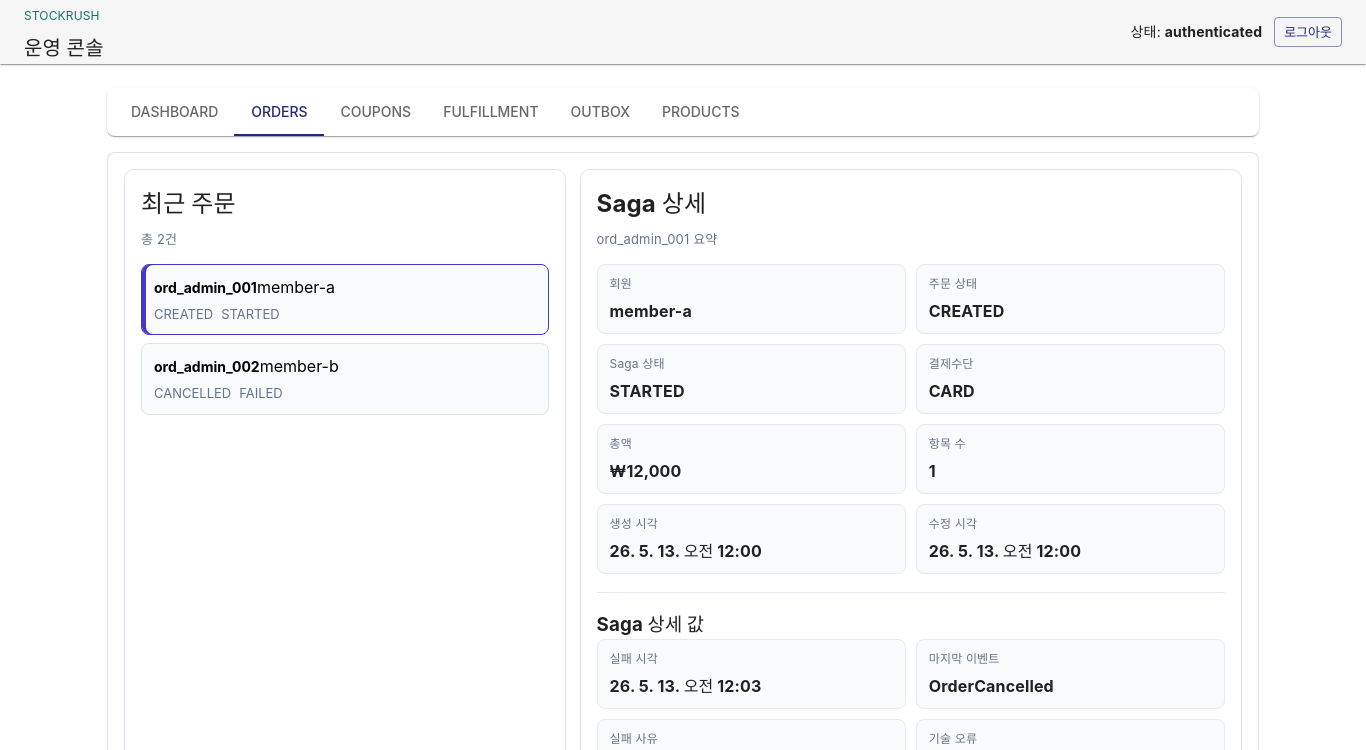
Test: admin app operations › validates product create form for missing code and name
Click the tab "Products". click: (701, 112)
box: [646,88,756,136]
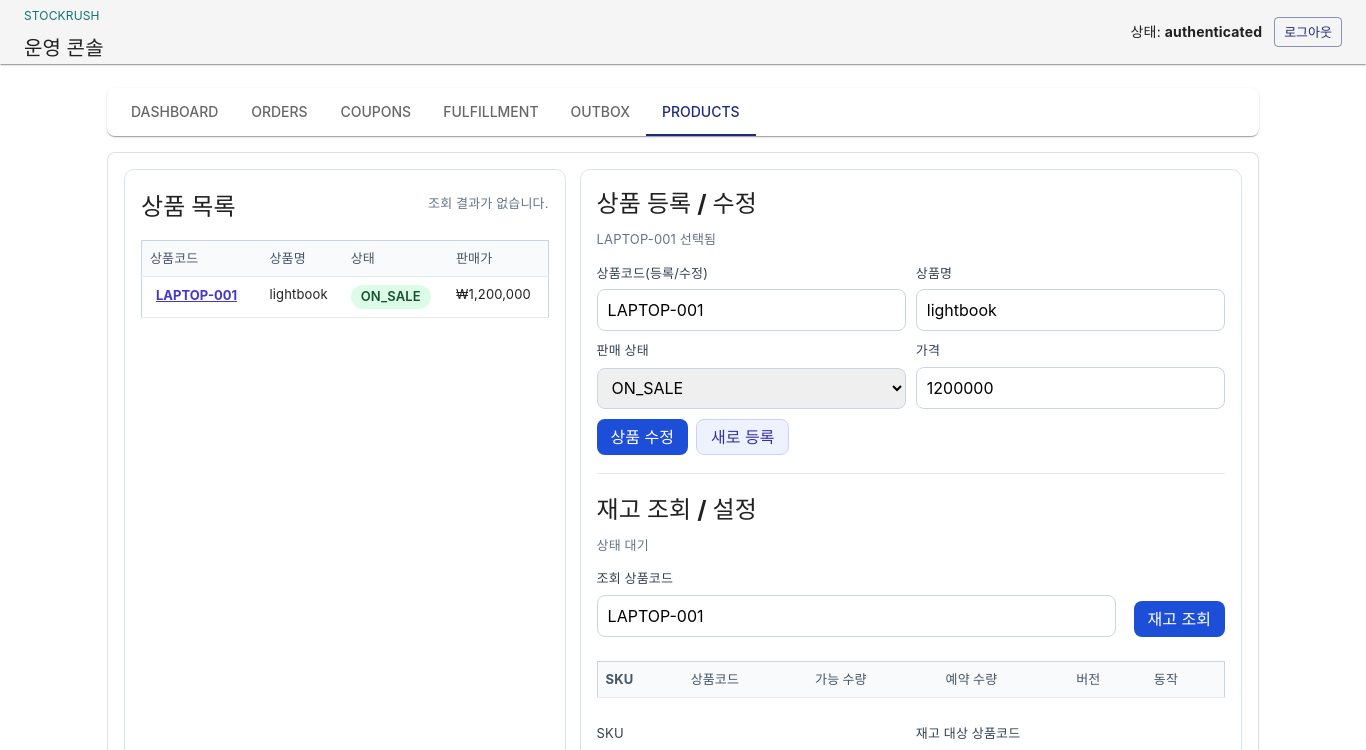
Check: the button "LAPTOP-001" is shown, box [150,285,243,306]
Click the button "새로 등록". click: (743, 436)
box: [696,418,789,454]
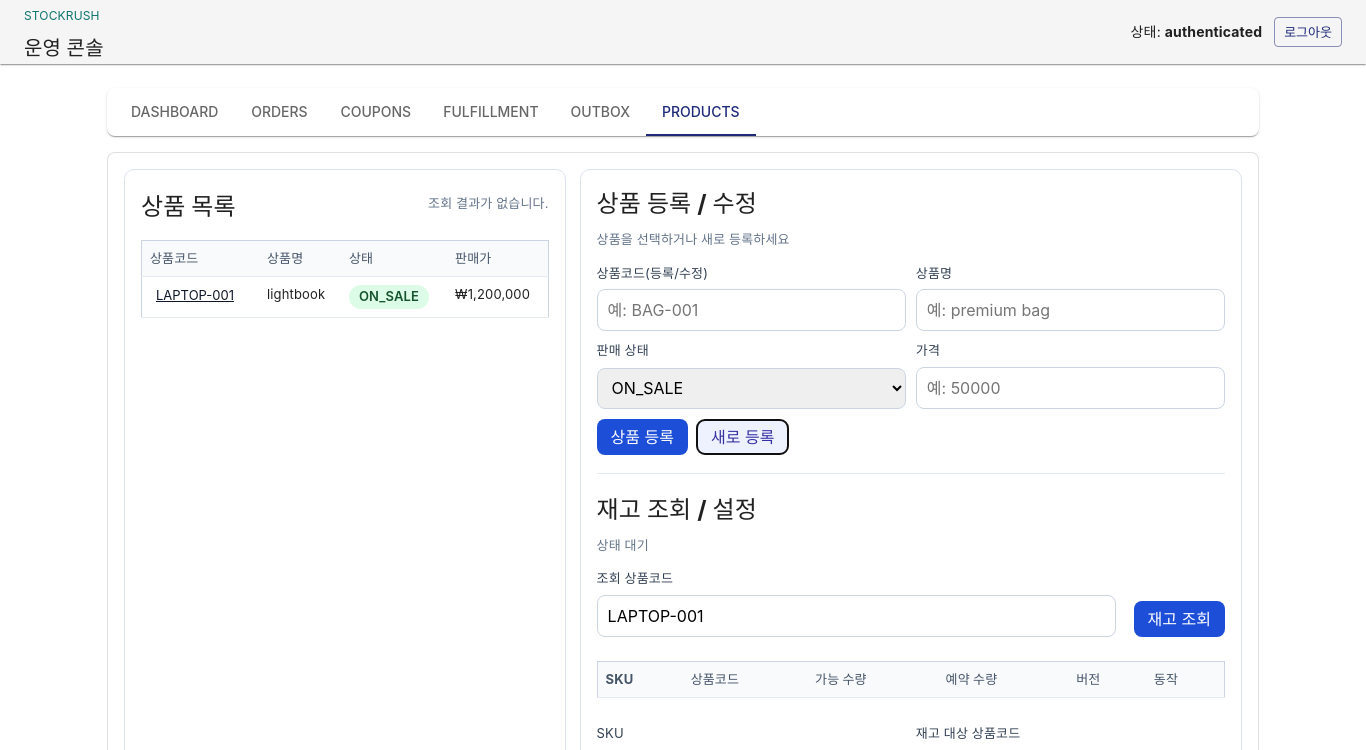
Clear the field labelled "상품코드(등록/수정)". click: (751, 310)
box: [597,289,906,331]
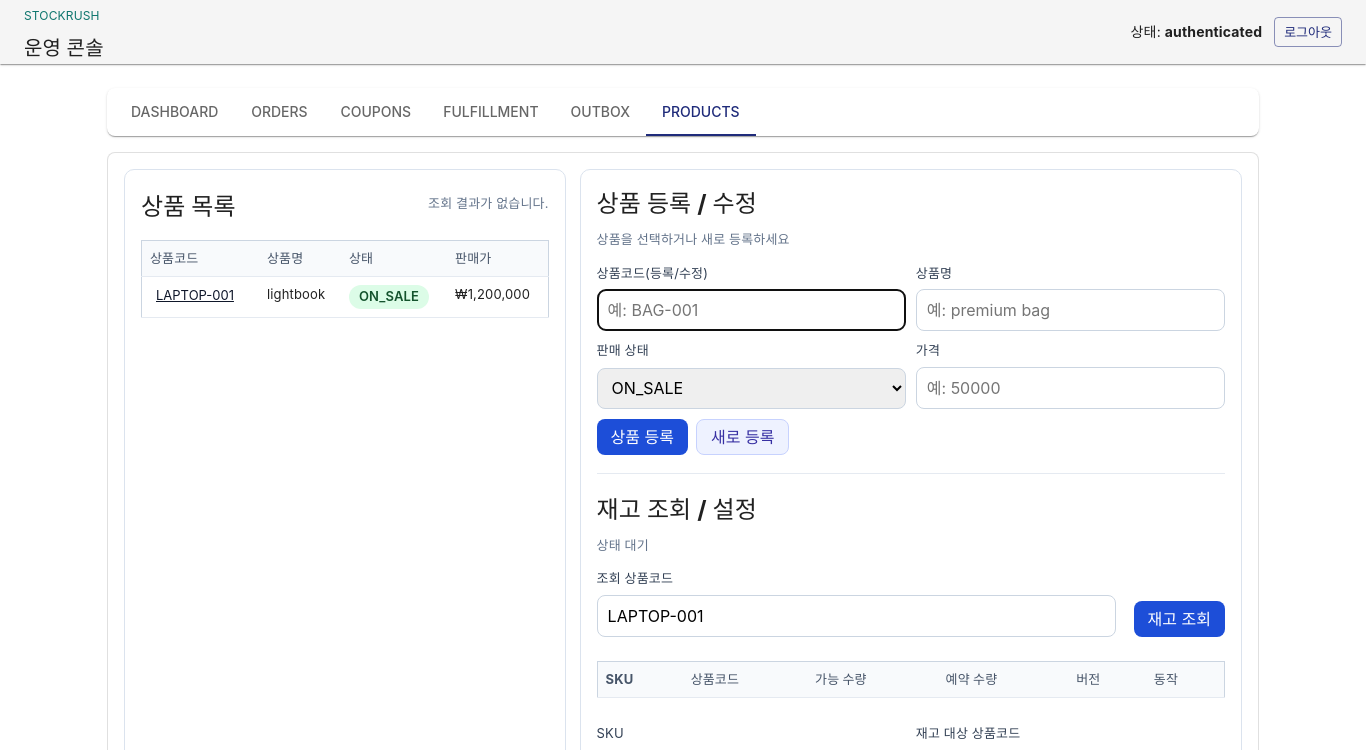
Clear the field labelled "상품명". click: (1070, 310)
box: [916,289,1225,331]
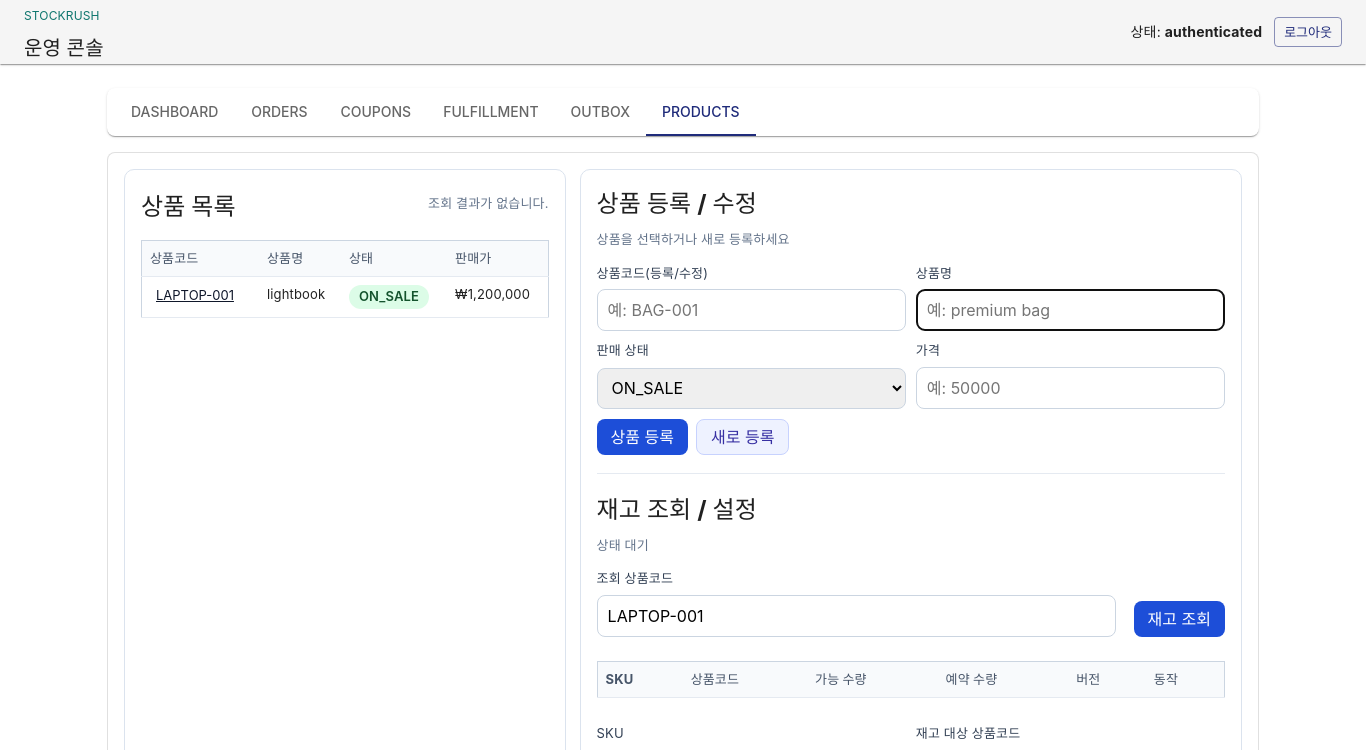
Type "1000" into the number field labelled "가격". click: (1070, 388)
box: [916,366,1225,408]
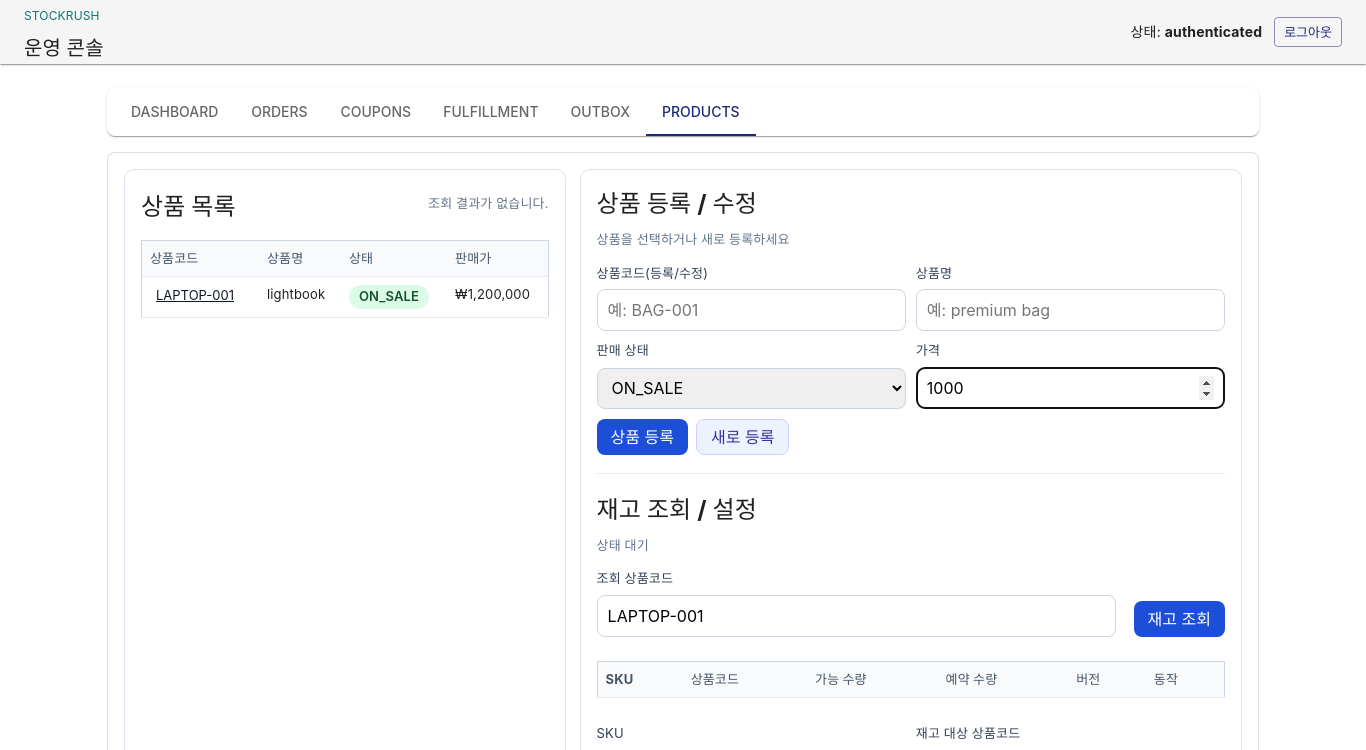
Click the button "상품 등록". click: (642, 436)
box: [597,418,688,454]
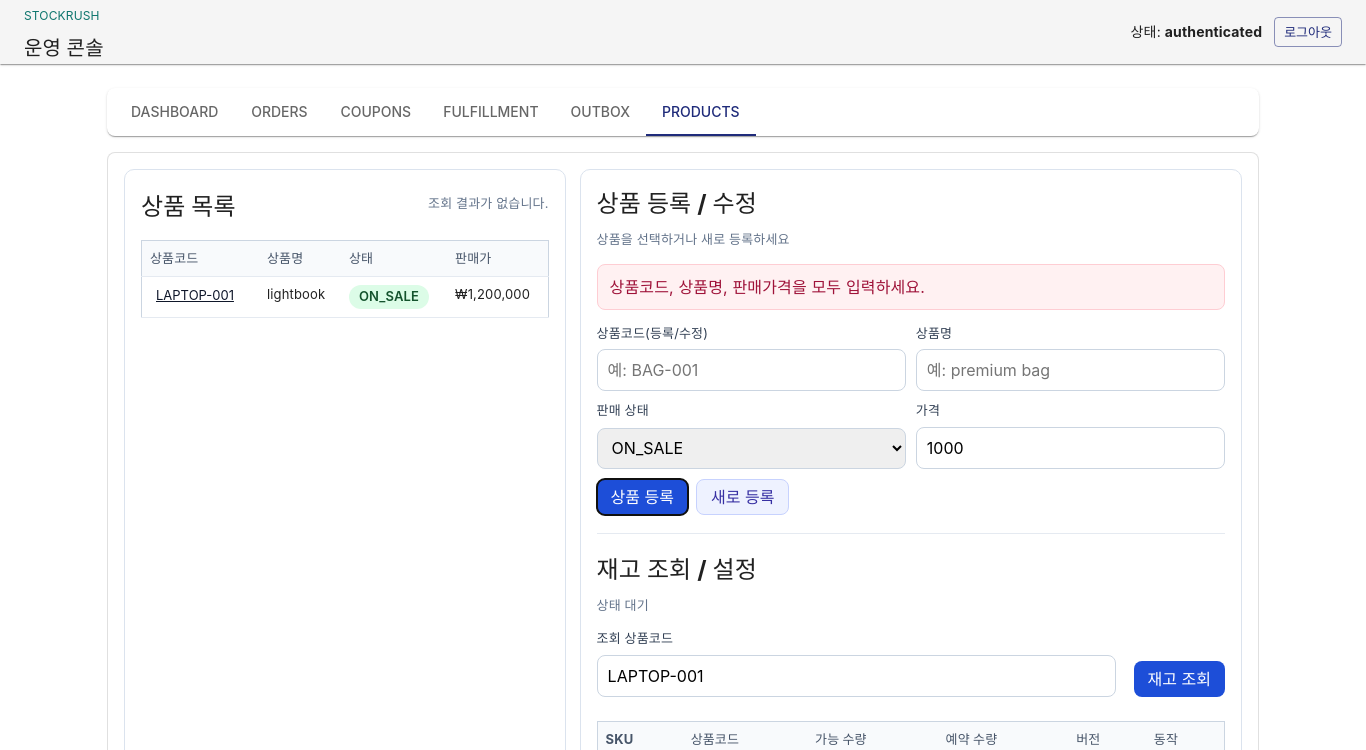
Check: the message reads "상품코드, 상품명, 판매가격을 모두 입력하세요.", box [610,276,925,296]
